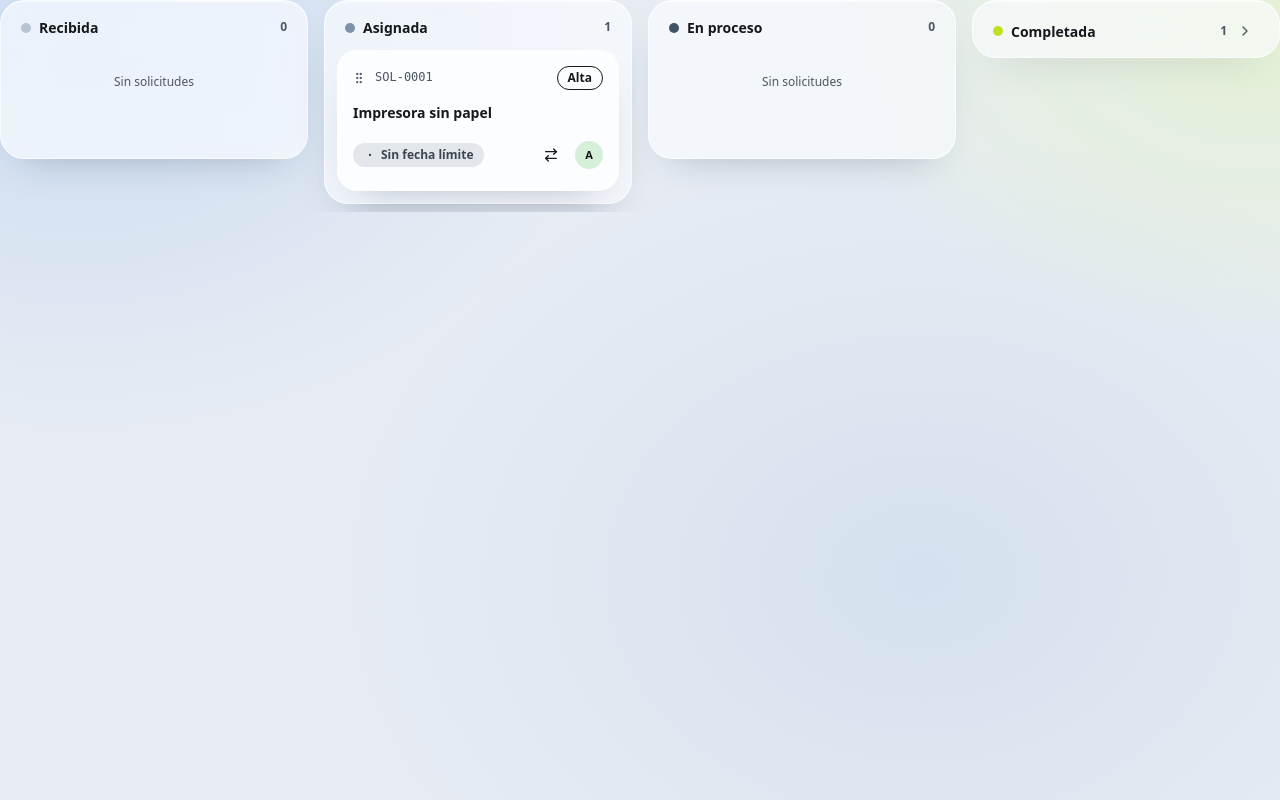
Test: tablero kanban › las completadas empiezan colapsadas y cada tarjeta tiene un asa para moverla con el teclado
The image size is (1280, 800).
Expected: the text "SOL-0002" is not shown
What coordinates should you click on to do the following:
click the button named "Mostrar Completada"
I would click on:
 (1245, 31)
Its box is [1231,17,1259,45].
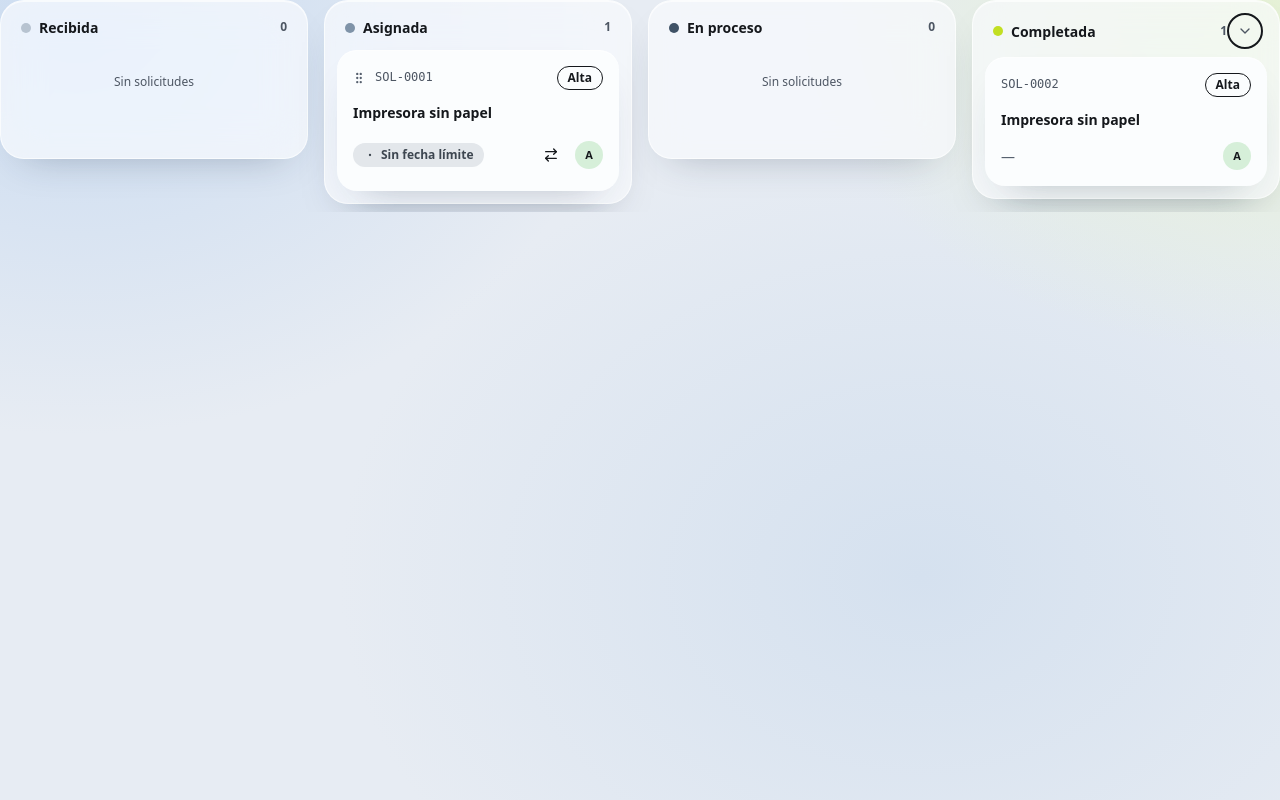
Expected: the text "SOL-0002" is shown, [1001,77,1059,93]
